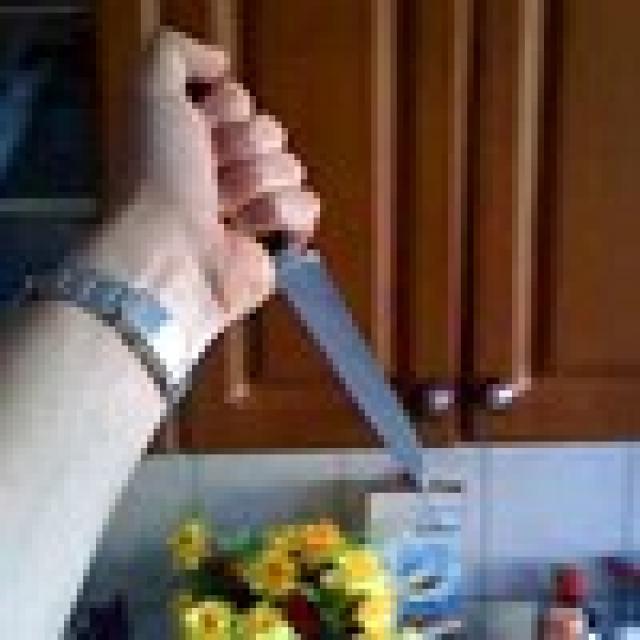Knife: (192, 77, 429, 493)
